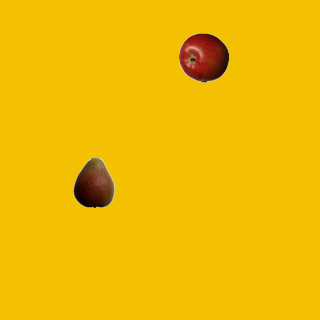Apple Braeburn: (178, 32, 228, 82)
Pear Forelle: (68, 157, 118, 207)
